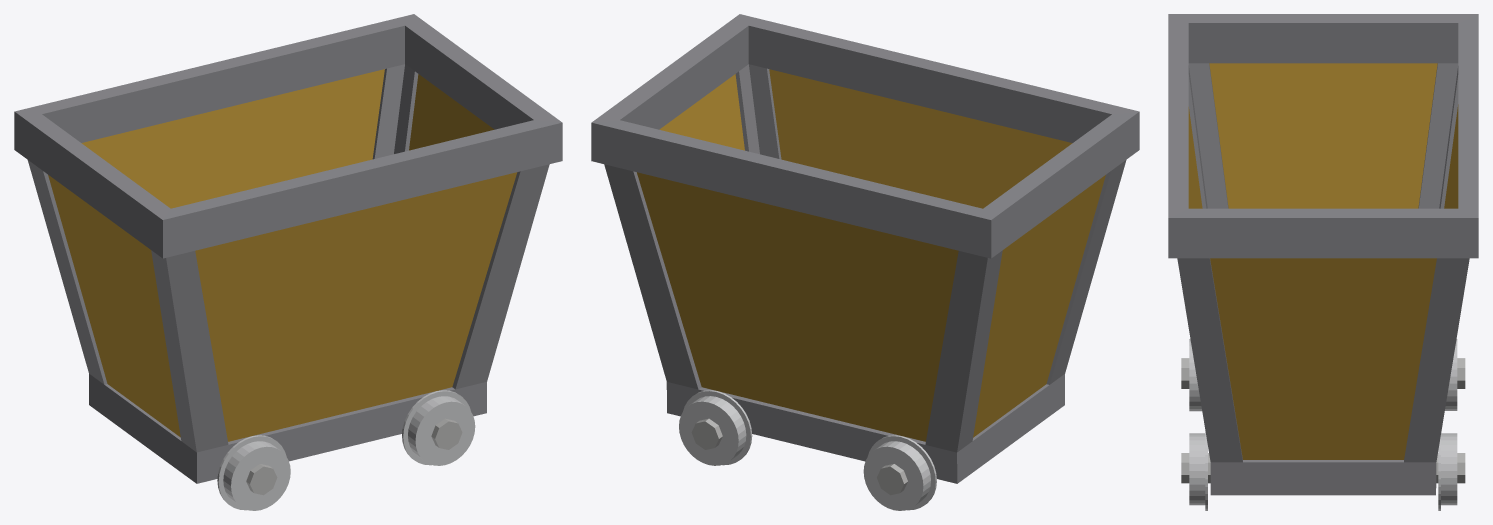
File: cart.gltf
3 renders of one model, left to right at view 1: azimuth 30°, elevation 25°; view 2: azimuth 150°, elevation 25°; view 3: azimuth 270°, elevation 25°, orthographic. The views are drawn at different scales.
Parts seen in each view (by area): view 1: Placaj, Cadru_metal, Roata1, Roata2, ax1, ax2; view 2: Placaj, Cadru_metal, Roata3, Roata4, ax2, ax1; view 3: Placaj, Cadru_metal, Roata3, Roata2, ax1, Roata1, ax2, Roata4.
Boxes of the visible parts, x1,y1,x2,y2 form: Placaj: (48,69,517,441); Cadru_metal: (14,14,562,483); Roata1: (217,435,290,510); Roata2: (402,390,475,465); ax1: (431,418,462,449); ax2: (246,464,277,495); Placaj: (637,69,1105,441); Cadru_metal: (591,14,1139,483); Roata3: (679,390,752,465); Roata4: (863,435,936,510); ax2: (877,464,907,495); ax1: (691,418,722,449); Placaj: (1188,63,1458,459); Cadru_metal: (1168,14,1478,495); Roata3: (1438,433,1457,510); Roata2: (1189,431,1207,510); ax1: (1181,453,1465,483); Roata1: (1189,339,1201,411); ax2: (1181,358,1465,388); Roata4: (1445,339,1457,410).
Bounding box in the file's own units: 1.97 × 1.55 × 1.27.
